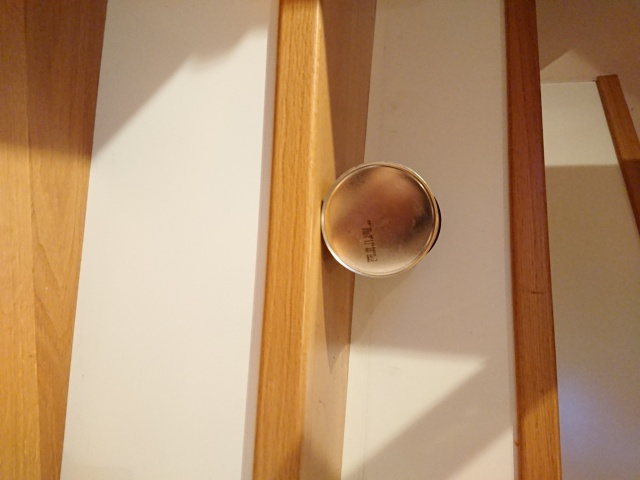Nescafe Classic 225g: (318, 159, 444, 280)
